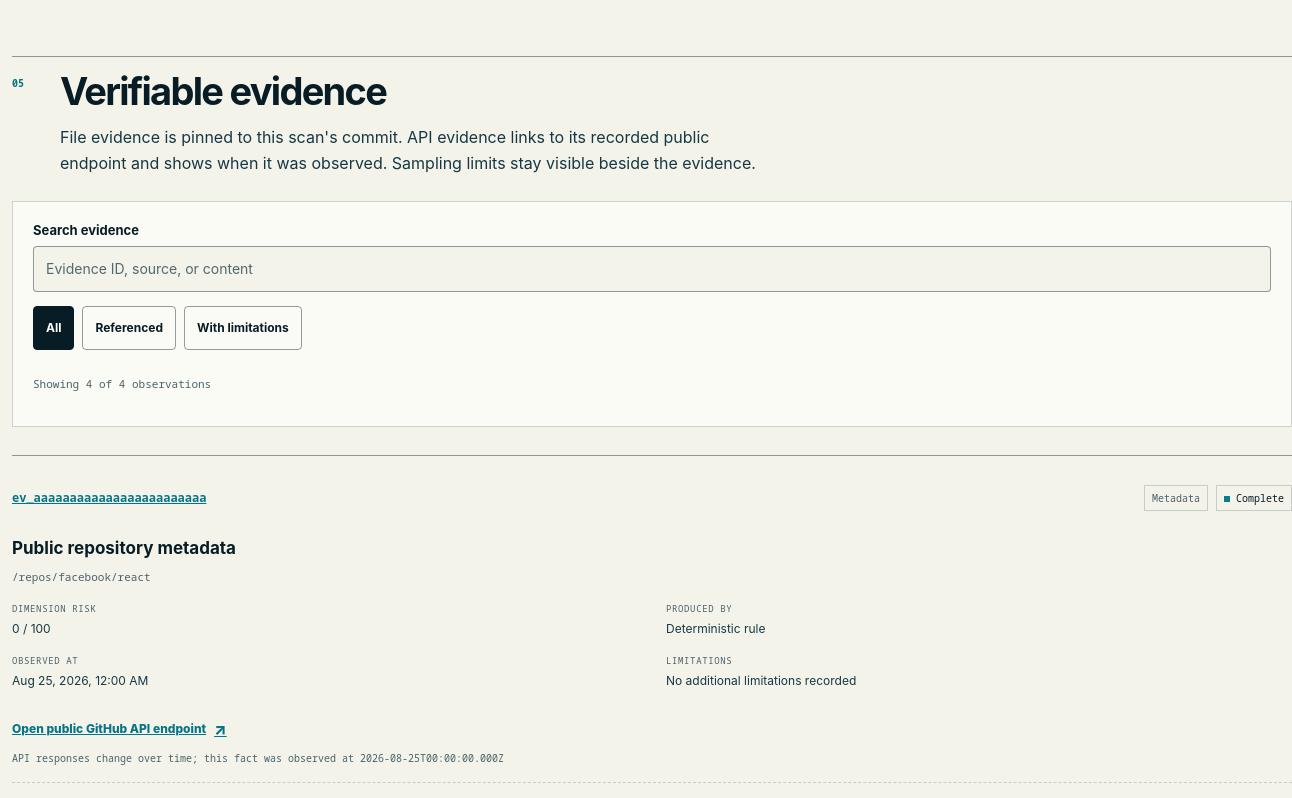
Evidence explorer › searches source paths, IDs, and raw contents and combines search with reference filters
Check: the message reads "Showing 4 of 4 observations", box [33,376,211,391]
In the search field labelled "Search evidence": (652, 269) [33,246,1271,292], type "README.md"
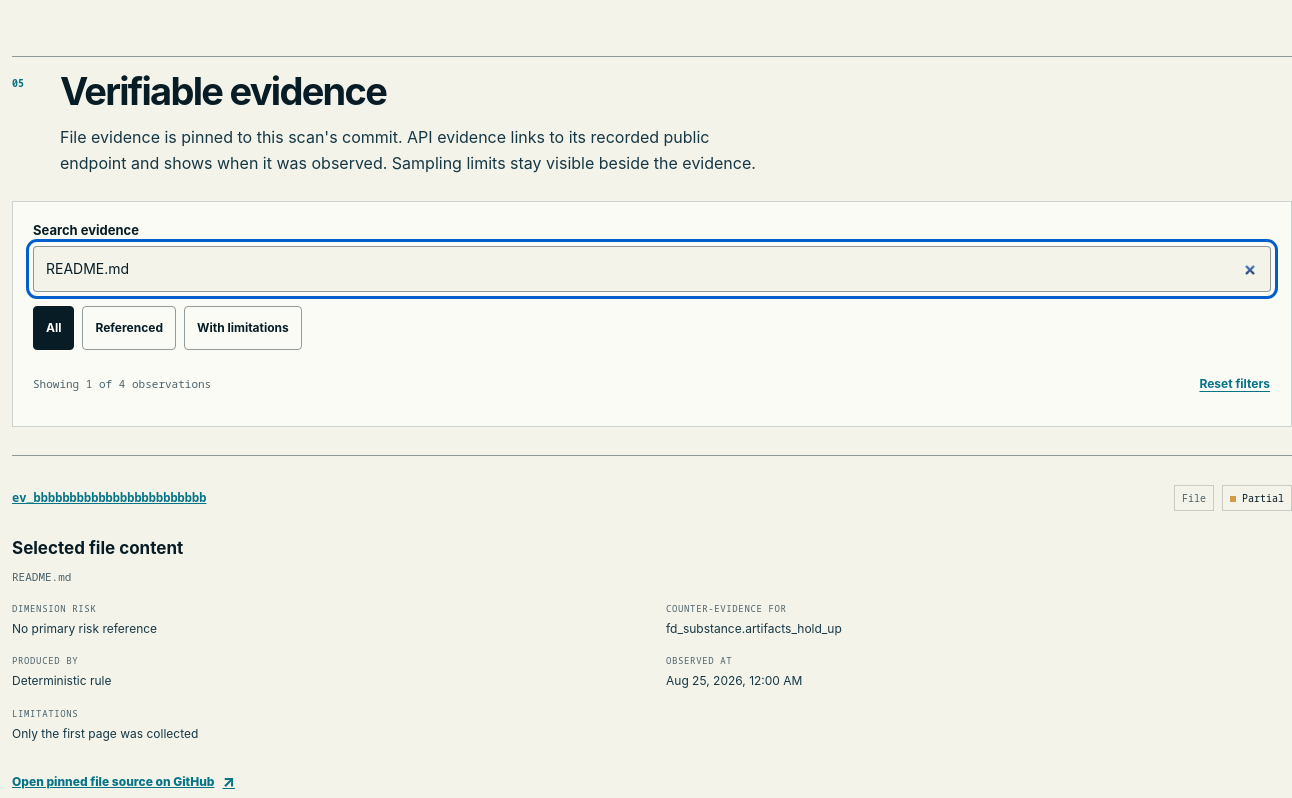
Check: the message reads "Showing 1 of 4 observations", box [33,376,211,391]
Replace the text in the search field labelled "Search evidence" with "Install and run": (652, 269) [33,246,1271,292]
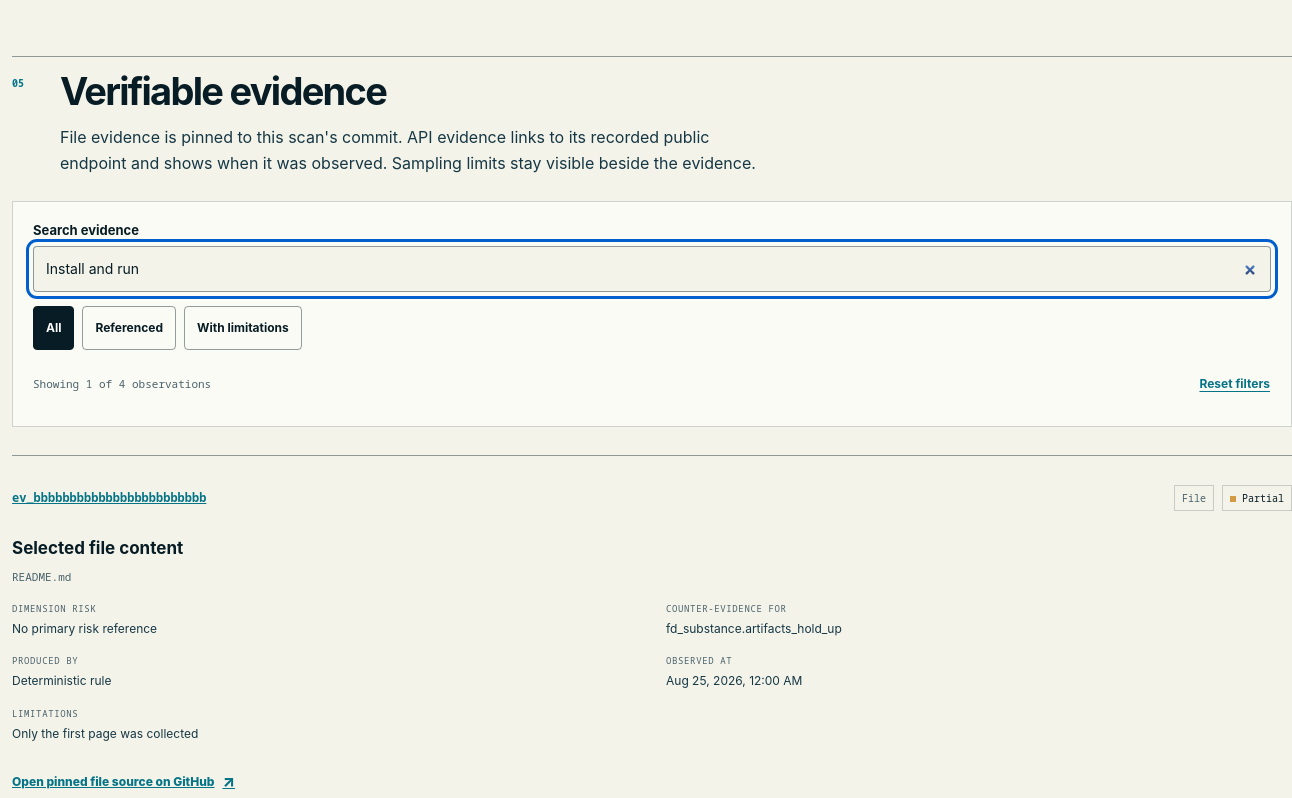
Check: the message reads "Showing 1 of 4 observations", box [33,376,211,391]
Clear the search field labelled "Search evidence": (652, 269) [33,246,1271,292]
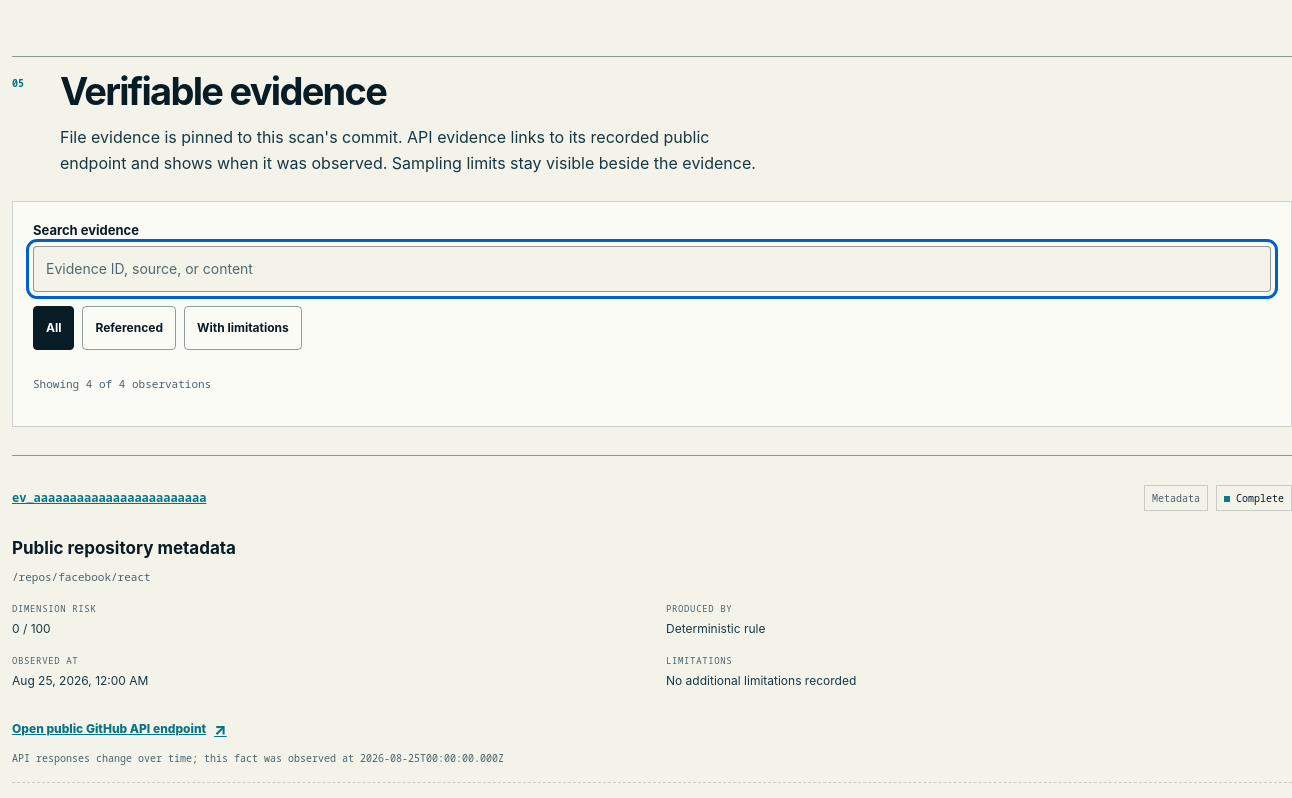
Click the button "Referenced": (129, 328) [82,306,176,350]
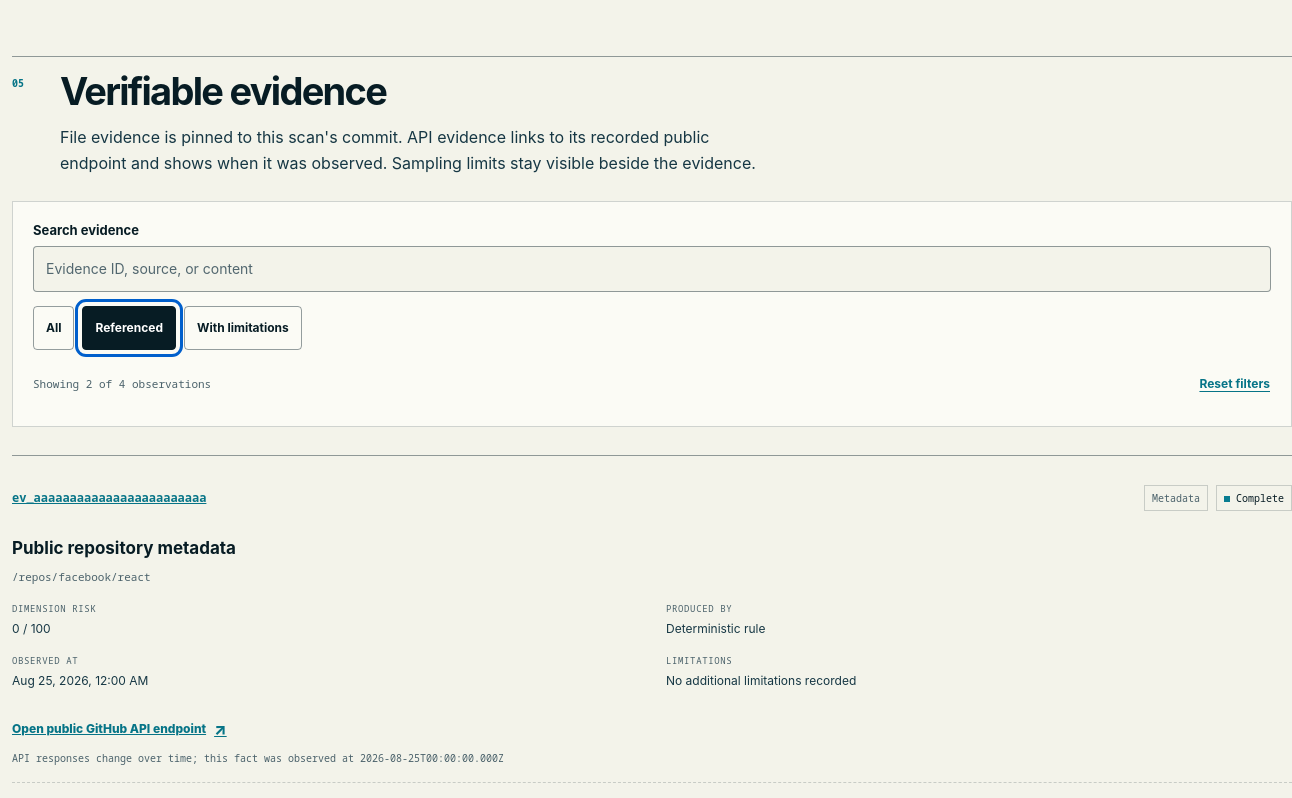
Check: the message reads "Showing 2 of 4 observations", box [33,376,211,391]
In the search field labelled "Search evidence": (652, 269) [33,246,1271,292], type "ev_aaaaaaaaaaaaaaaaaaaaaaaa"
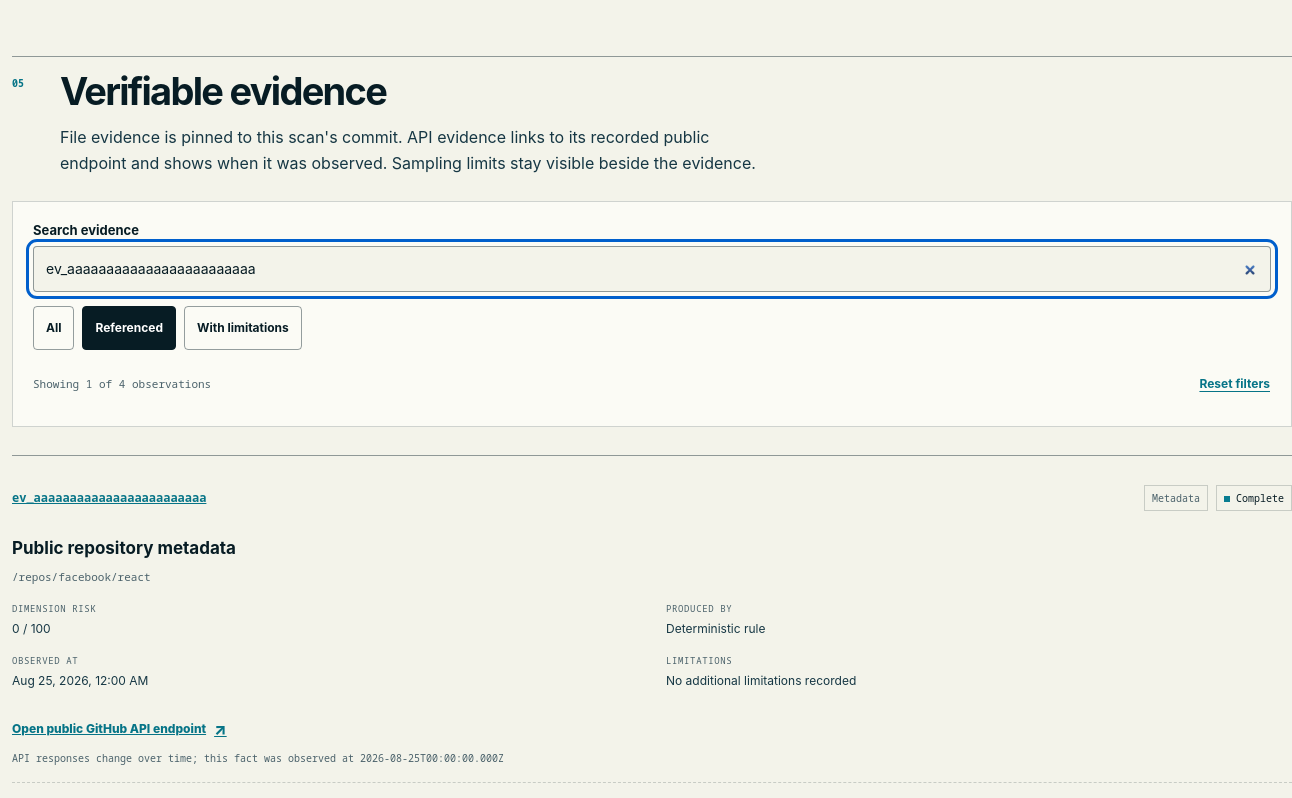
Check: the message reads "Showing 1 of 4 observations", box [33,376,211,391]
Click the button "Reset filters": (1235, 384) [1198,362,1271,406]
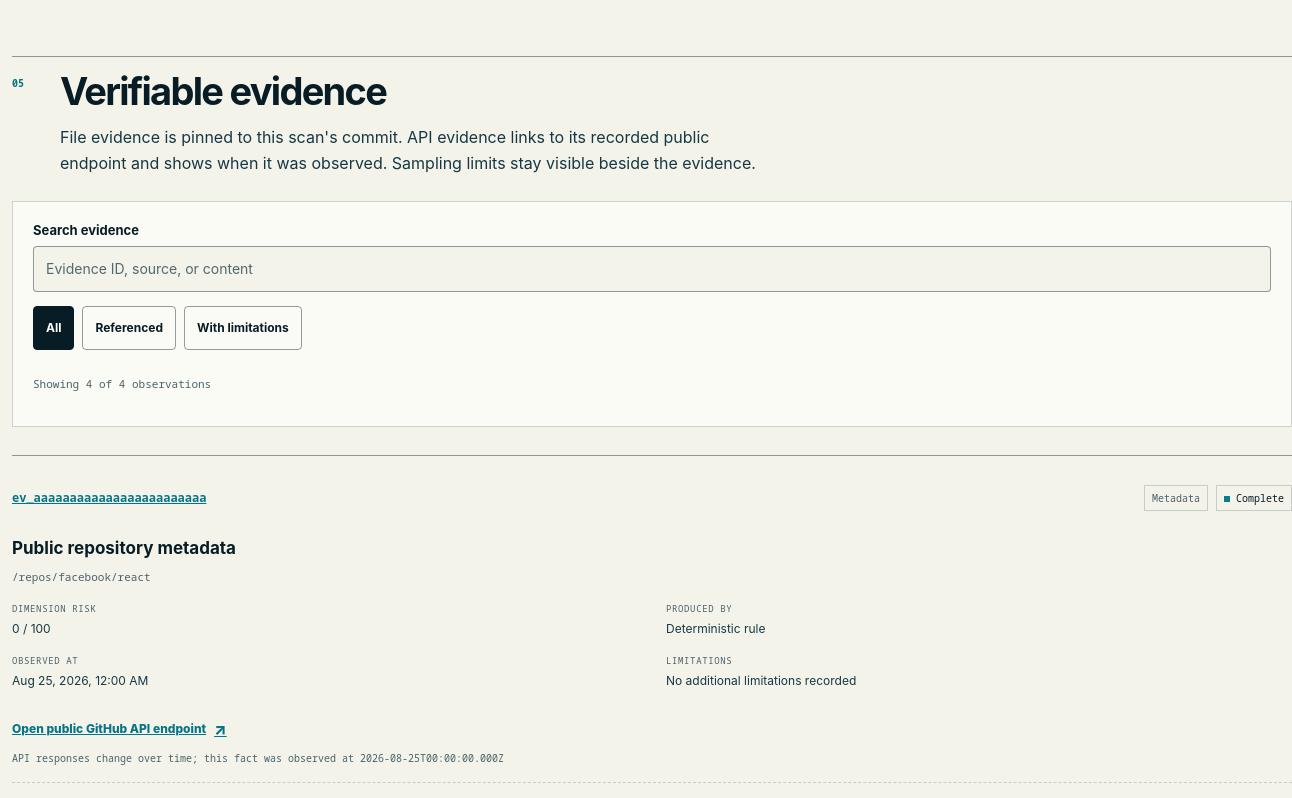
Check: the message reads "Showing 4 of 4 observations", box [33,376,211,391]
